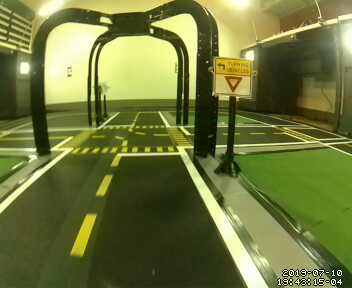Turn Yield: (214, 57, 253, 98)
